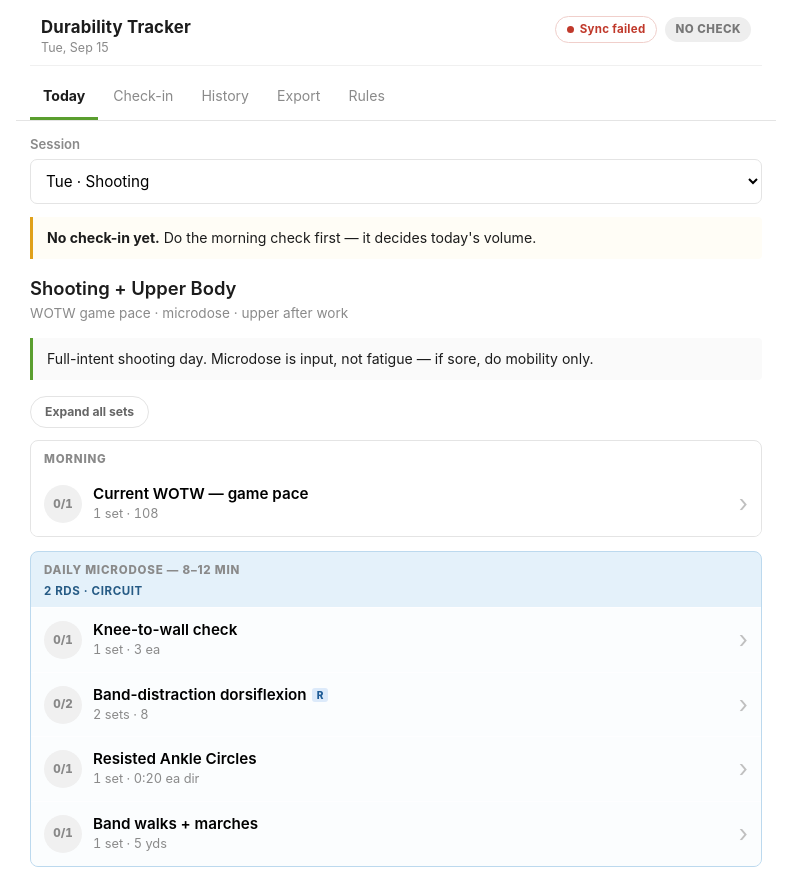
check-in context › shows the previous logged session and what it contained
Click the button "Check-in" at (143, 98), box x1=100 y1=76 x2=186 y2=120
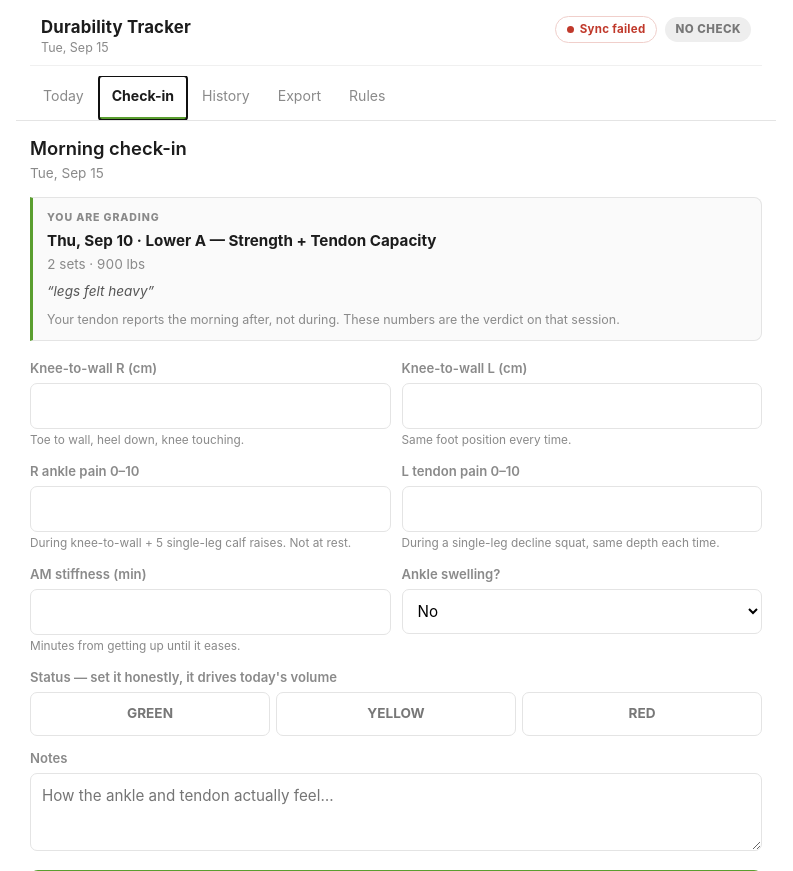
Expected: the element with class "grading" shows "You are grading", x1=47 y1=211 x2=160 y2=224
Expected: the element with class "grading" shows "Sep 10", x1=47 y1=230 x2=133 y2=250
Expected: the element with class "grading" shows "2 sets", x1=30 y1=197 x2=762 y2=341
